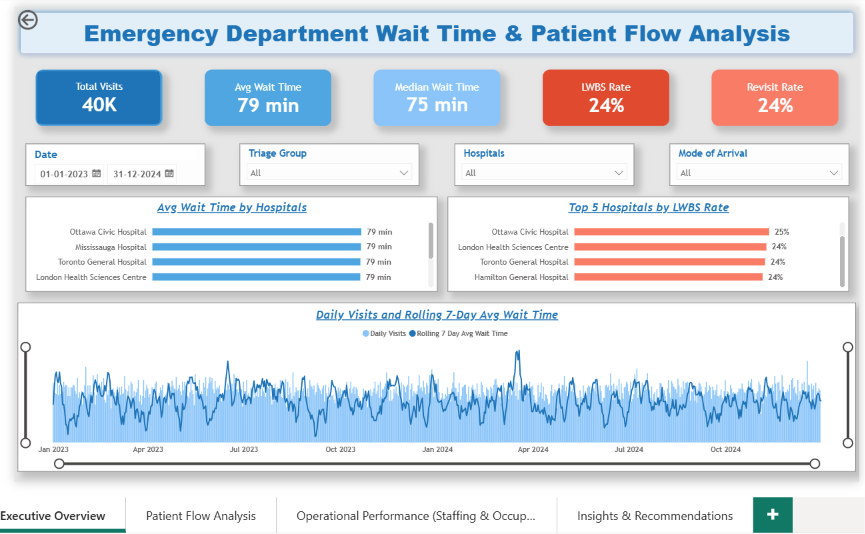

What the dashboard file says about the page in this screenshot:
{"tool":"powerbi","page":{"name":"Executive Overview","canvas":[1280,720],"ordinal":0},"visuals":[{"type":"slicer","title":"Date","fields":{"Values":["Calendar.Date"]},"box":[16,208,272,64],"z":0},{"type":"slicer","fields":{"Values":["er_visits.Triage Group"]},"box":[341.3,208,272,64],"z":1000},{"type":"slicer","fields":{"Values":["hospitals.hospital_name"]},"box":[666.7,208,272,64],"z":2000},{"type":"cardVisual","fields":{"Data":["Measures Table.Total Visits"]},"box":[32,96,192,85],"z":3000},{"type":"cardVisual","fields":{"Data":["Measures Table.Avg Wait Time"]},"box":[288,96,192,85],"z":4000},{"type":"cardVisual","fields":{"Data":["Measures Table.Median Wait Time"]},"box":[544,96,192,85],"z":5000},{"type":"cardVisual","fields":{"Data":["Measures Table.LWBS Rate %"]},"box":[800,96,192,85],"z":6000},{"type":"cardVisual","fields":{"Data":["Measures Table.Revisit 72h Rate %"]},"box":[1056,96,192,85],"z":7000},{"type":"clusteredBarChart","title":"Avg Wait Time by Hospitals","fields":{"Category":["hospitals.hospital_name"],"Y":["Measures Table 1.Avg Wait Time"]},"box":[16,288,624,144],"z":8000},{"type":"lineClusteredColumnComboChart","title":"Daily Visits and Rolling 7-Day Avg Wait Time","fields":{"Y":["Measures Table.Daily Visits"],"Y2":["Measures Table.Rolling 7 Day Avg Wait"],"Category":["Calendar.Date"]},"box":[5,448,1270,256],"z":9000},{"type":"clusteredBarChart","title":"Top 5 Hospitals by LWBS Rate","fields":{"Category":["hospitals.hospital_name"],"Y":["Measures Table.LWBS Rate %"]},"box":[656,288,608,144],"z":10000},{"type":"shape","box":[0,0,1280,80],"z":11000},{"type":"actionButton","box":[0,0,100,40],"z":12000},{"type":"slicer","fields":{"Values":["er_visits.mode_of_arrival"]},"box":[992,208,272,64],"z":13000}]}

Visuals, with their boxes on the page's 1280x720 design canvas (x1, y1, x2, y2). These are canvas units, not pixel positions in the 865x534 screenshot, which may show the page scaled, cropped or inside an application window:
"Date" slicer: {"x1": 16, "y1": 208, "x2": 288, "y2": 272}
slicer - er_visits.Triage Group: {"x1": 341, "y1": 208, "x2": 613, "y2": 272}
slicer - hospitals.hospital_name: {"x1": 667, "y1": 208, "x2": 939, "y2": 272}
cardVisual - Measures Table.Total Visits: {"x1": 32, "y1": 96, "x2": 224, "y2": 181}
cardVisual - Measures Table.Avg Wait Time: {"x1": 288, "y1": 96, "x2": 480, "y2": 181}
cardVisual - Measures Table.Median Wait Time: {"x1": 544, "y1": 96, "x2": 736, "y2": 181}
cardVisual - Measures Table.LWBS Rate %: {"x1": 800, "y1": 96, "x2": 992, "y2": 181}
cardVisual - Measures Table.Revisit 72h Rate %: {"x1": 1056, "y1": 96, "x2": 1248, "y2": 181}
"Avg Wait Time by Hospitals" clusteredBarChart: {"x1": 16, "y1": 288, "x2": 640, "y2": 432}
"Daily Visits and Rolling 7-Day Avg Wait Time" lineClusteredColumnComboChart: {"x1": 5, "y1": 448, "x2": 1275, "y2": 704}
"Top 5 Hospitals by LWBS Rate" clusteredBarChart: {"x1": 656, "y1": 288, "x2": 1264, "y2": 432}
shape: {"x1": 0, "y1": 0, "x2": 1280, "y2": 80}
actionButton: {"x1": 0, "y1": 0, "x2": 100, "y2": 40}
slicer - er_visits.mode_of_arrival: {"x1": 992, "y1": 208, "x2": 1264, "y2": 272}
